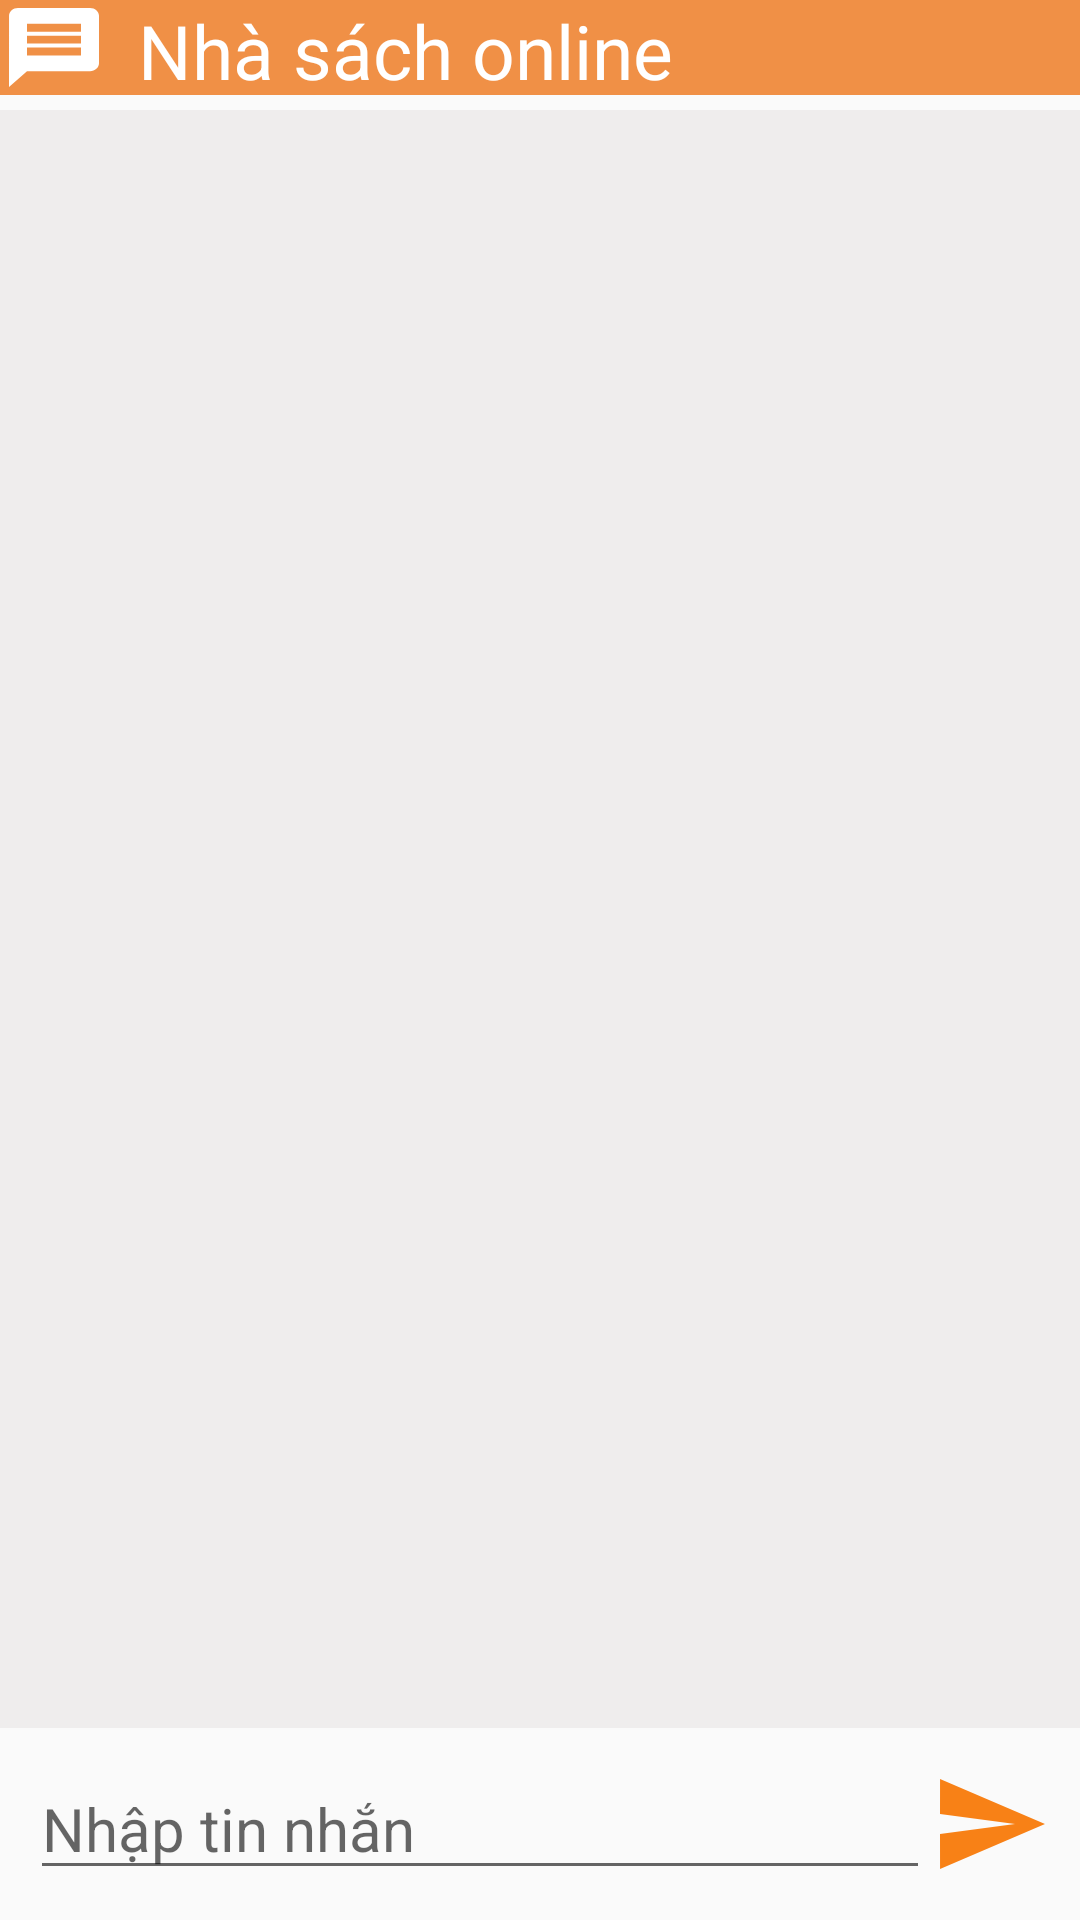

Icon bounding boxes for this 1080*1920 phone screenshot, format (x1=x1, y1=y1, x2=x2, y2=y2):
iconnhantin: (x1=9, y1=8, x2=99, y2=87)
send: (x1=940, y1=1779, x2=1045, y2=1869)
